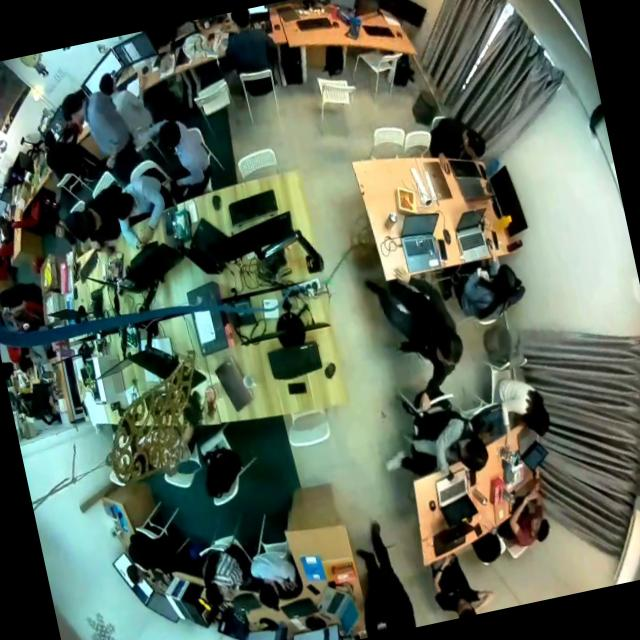employee_tag: (375, 620, 389, 632)
